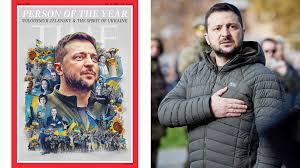Persons: (55, 29, 105, 98), (202, 3, 251, 63)
